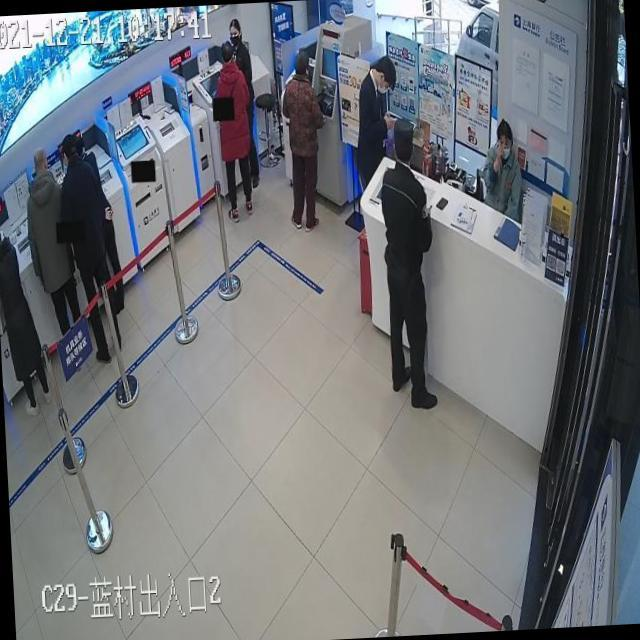person: (378, 116, 442, 410), (57, 132, 123, 366), (22, 147, 82, 340), (70, 132, 126, 318), (0, 216, 52, 416), (278, 51, 330, 234), (210, 41, 256, 222), (352, 56, 402, 190), (228, 17, 262, 193), (478, 120, 524, 220)
